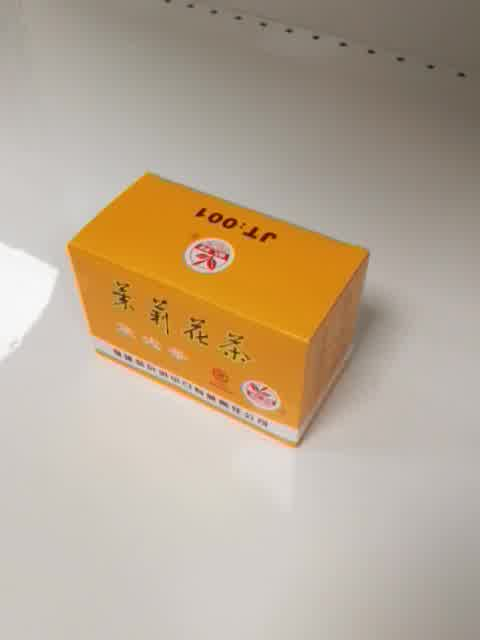jasminetea: (66, 170, 369, 449)
